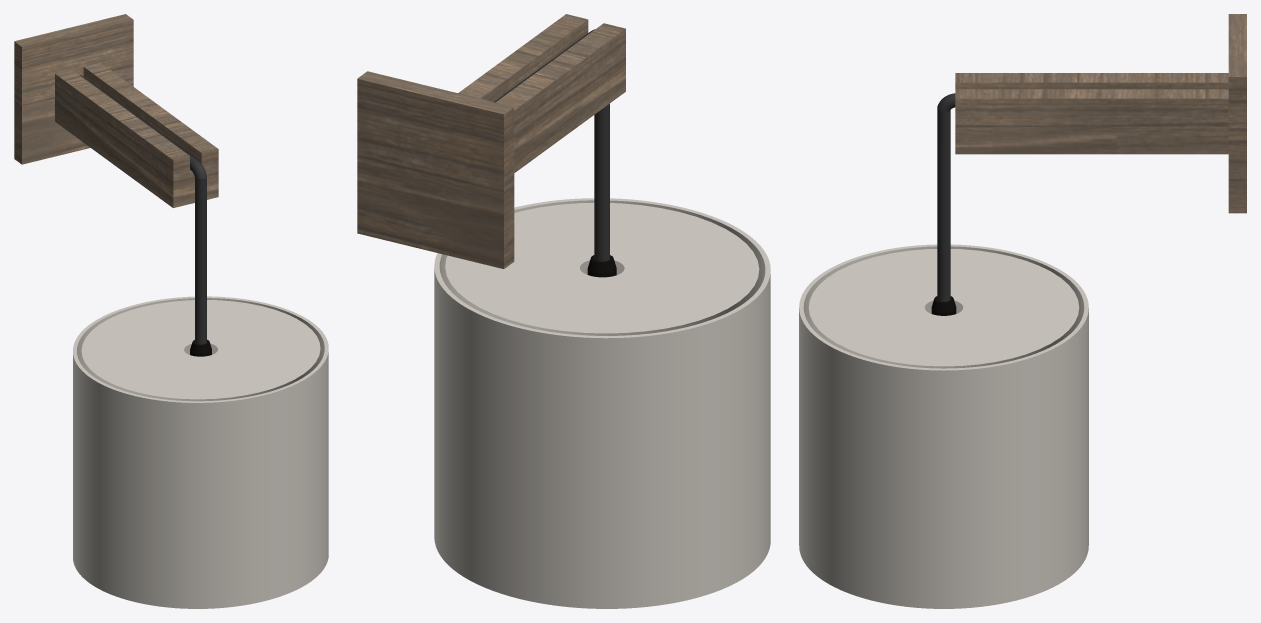
File: wall_lamp_1.glb
3 renders of one model, left to right at view 1: azimuth 30°, elevation 25°; view 2: azimuth 150°, elevation 25°; view 3: azimuth 270°, elevation 25°, orthographic. The views are drawn at different scales.
Parts seen in each view (by area): view 1: root; view 2: root; view 3: root.
Part boxes in pixels (x1,y1,x2,y2): root: (14, 14, 328, 608); root: (357, 14, 770, 608); root: (799, 14, 1246, 608).
Bounding box in the file's own units: 0.2 × 0.37 × 0.3.
4 materials, 1 textured.
